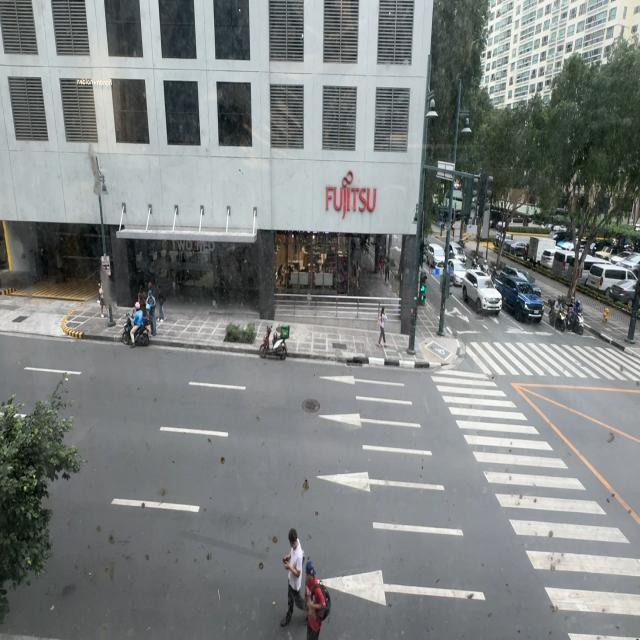jaywalking: (280, 530, 306, 626), (304, 561, 327, 640)
pedestrain: (377, 307, 387, 346), (98, 280, 107, 318), (158, 284, 165, 323)
